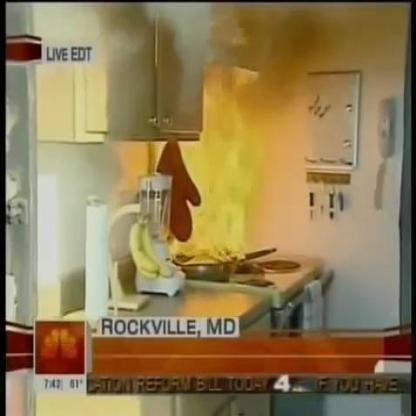fire: (156, 62, 259, 262)
